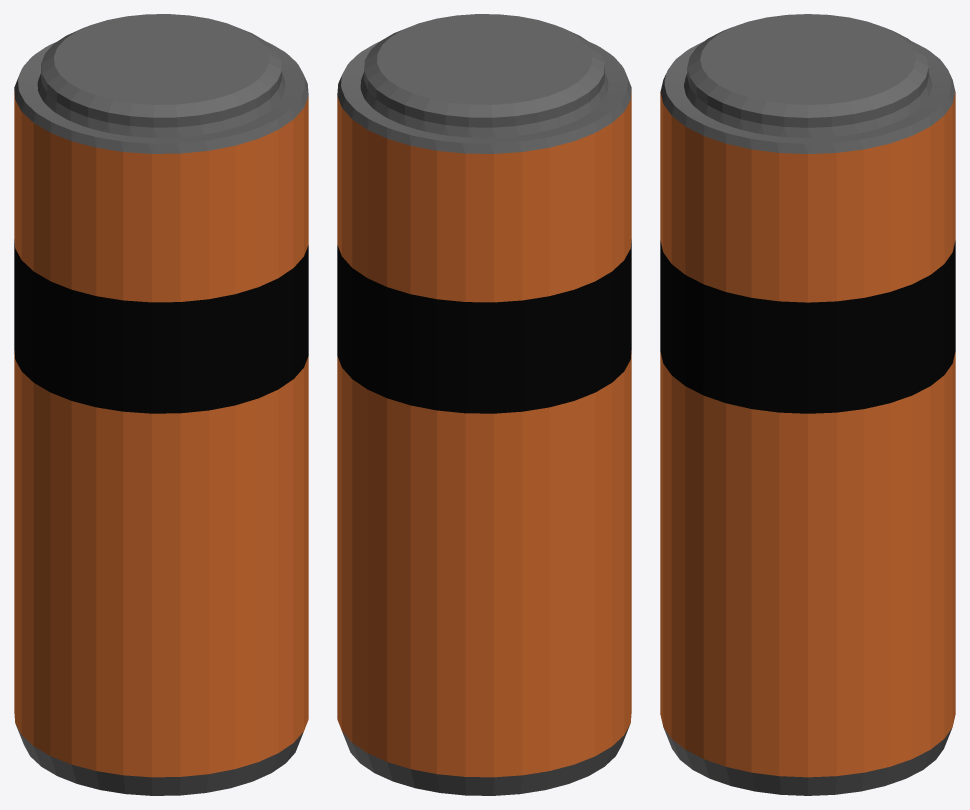
Rendered from Battery.glb.
3 renders of one model, left to right at view 1: azimuth 30°, elevation 25°; view 2: azimuth 150°, elevation 25°; view 3: azimuth 270°, elevation 25°, orthographic.
Visible parts, largest first — view 1: Cylinder; view 2: Cylinder; view 3: Cylinder.
Boxes of the visible parts, x1,y1,x2,y2 form: Cylinder: (14,14,308,795); Cylinder: (337,14,631,795); Cylinder: (660,14,955,795).
Bounding box in the file's own units: 0.3291 × 0.8343 × 0.3291.
